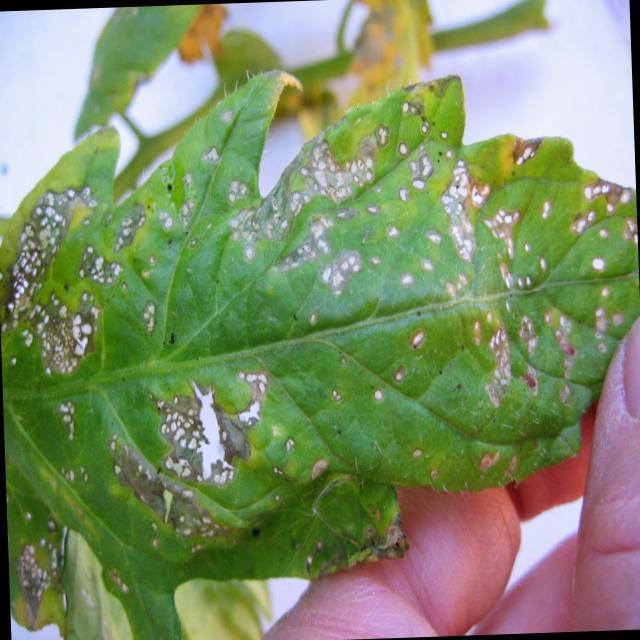Septoria: (0, 86, 624, 583)
